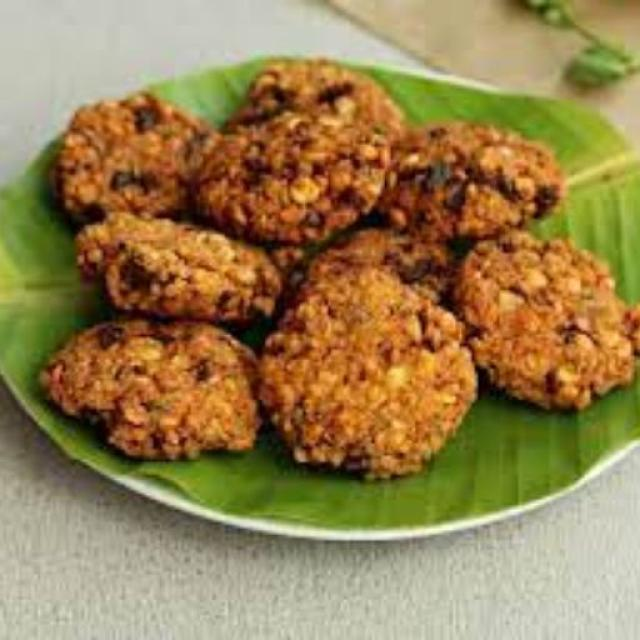dhal wade: (301, 281, 433, 425), (474, 247, 599, 382), (91, 344, 237, 440), (236, 113, 354, 215), (77, 106, 192, 200), (120, 233, 239, 312), (414, 138, 519, 218)
